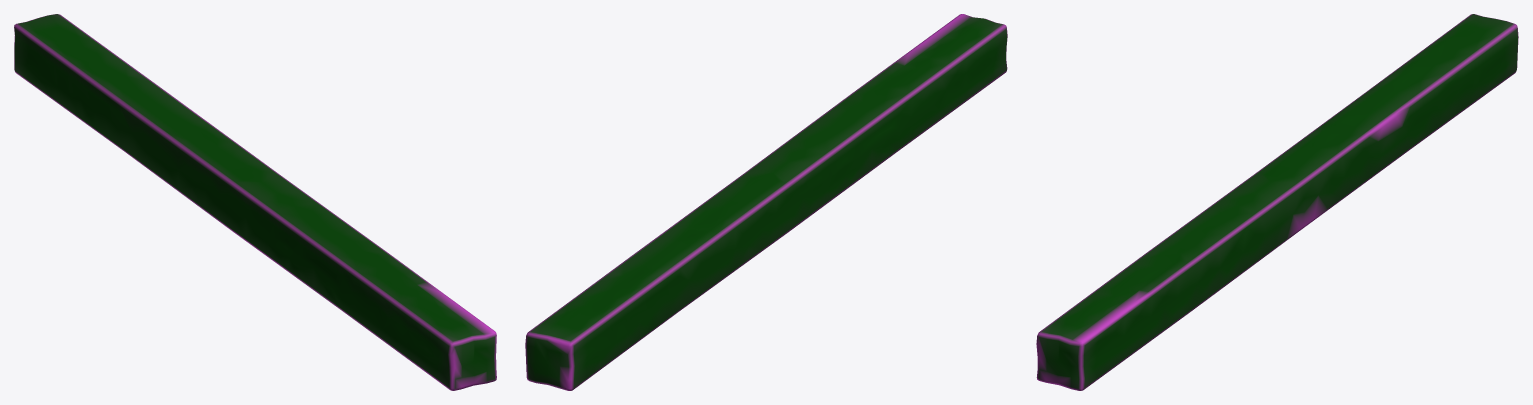
Rendered from frame_400_01.fbx.
3 renders of one model, left to right at view 1: azimuth 30°, elevation 25°; view 2: azimuth 150°, elevation 25°; view 3: azimuth 330°, elevation 25°, orthographic.
Parts seen in each view (by area): view 1: frame_400_01; view 2: frame_400_01; view 3: frame_400_01.
Boxes of the visible parts, <box> form: frame_400_01: <box>14,14,496,390</box>; frame_400_01: <box>525,14,1007,390</box>; frame_400_01: <box>1036,14,1518,390</box>.
Bounding box in the file's own units: 0.2581 × 0.2584 × 4.01.
